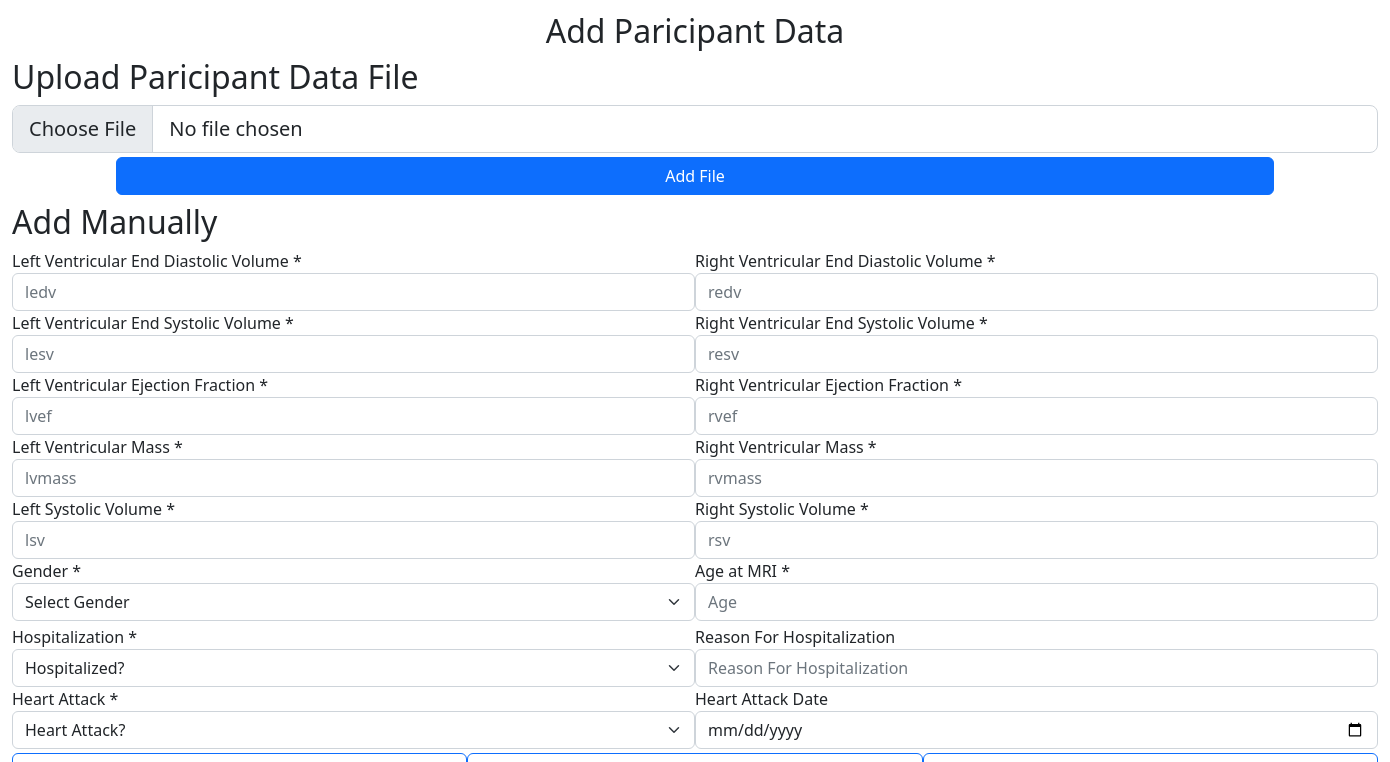
it: AddView › Testing to see if HeartAttack set to "No" disables HeartAttackDate
Select "No" in the dropdown named "attack" at (354, 730), box [12, 711, 695, 749]
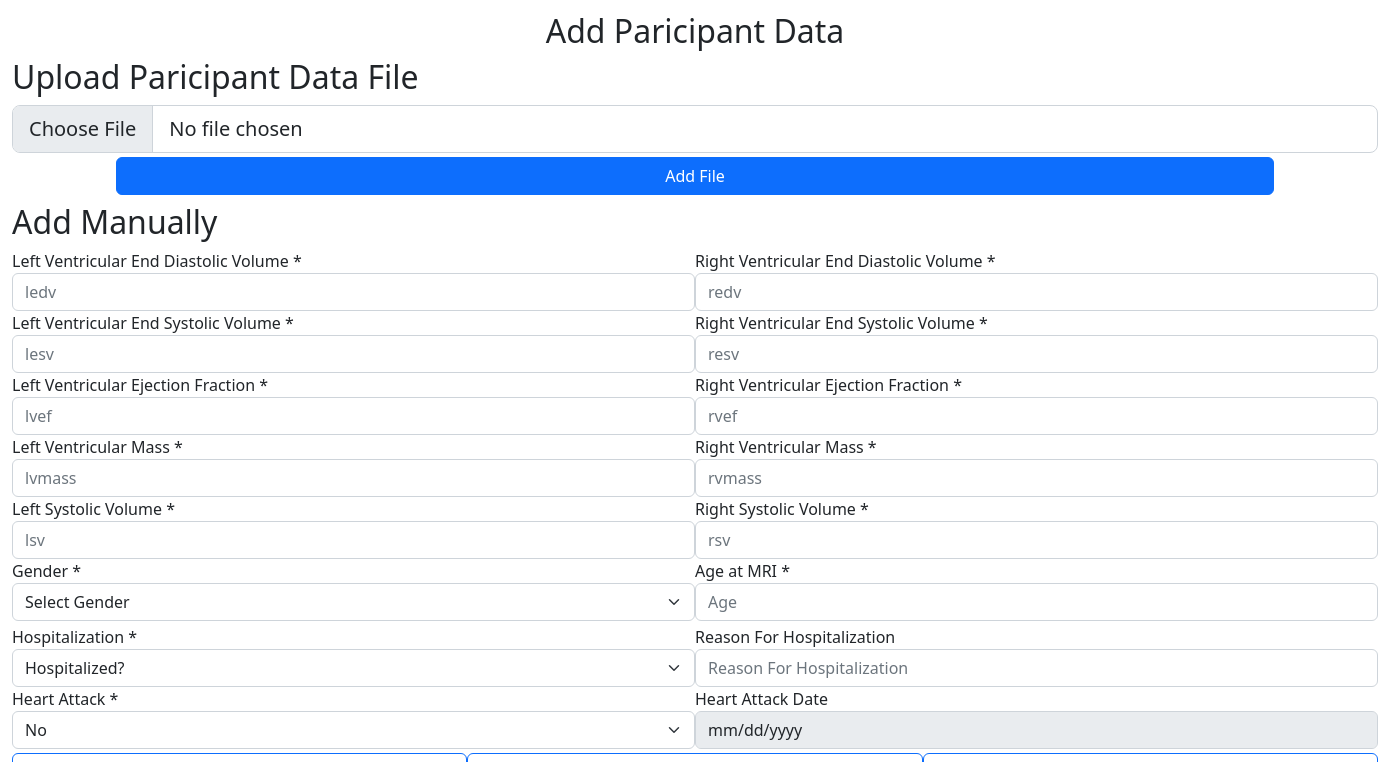
Result: the date field with id "attackdate" is disabled at [695, 711, 1378, 749]
